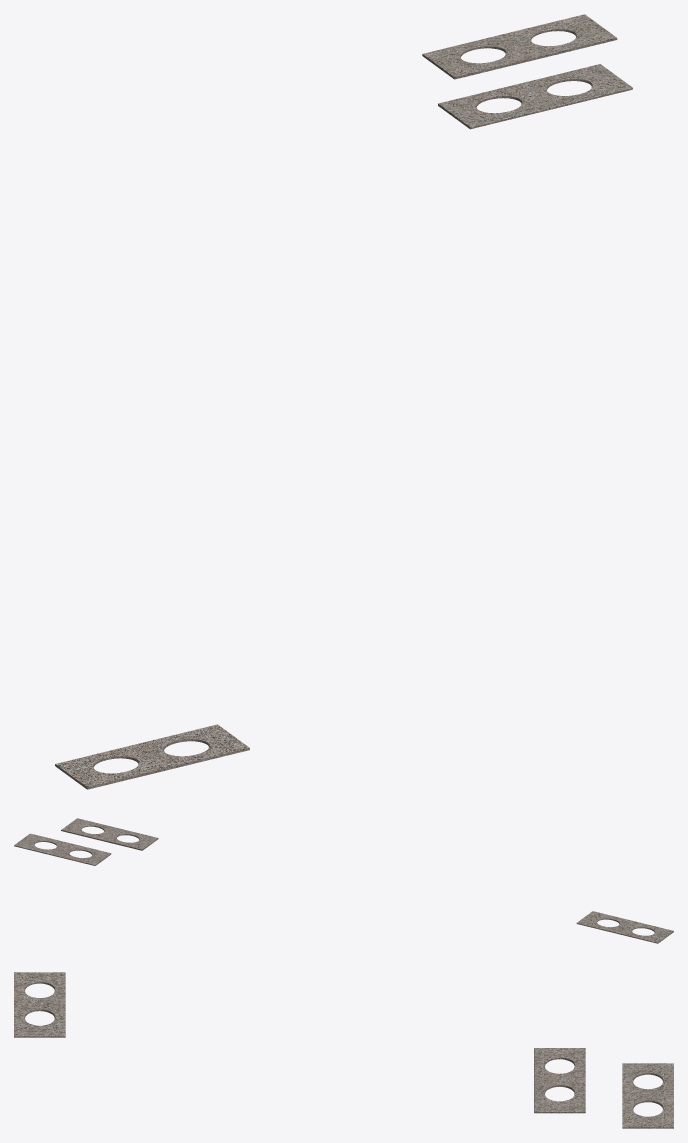
Rendered from Countertops_Granite_Caledonia.glb.
3 renders of one model, top to bottom at view 1: azimuth 30°, elevation 25°; view 2: azimuth 150°, elevation 25°; view 3: azimuth 270°, elevation 25°, orthographic. The views are drawn at different scales.
Parts seen in each view (by area): view 1: Bathroom_Counter_tops_Granite_Caledonia_2345; view 2: Bathroom_Counter_tops_Granite_Caledonia_2345; view 3: Bathroom_Counter_tops_Granite_Caledonia_2345.
Part boxes in pixels (bbox=[...]): Bathroom_Counter_tops_Granite_Caledonia_2345: bbox=[55, 14, 632, 789]; Bathroom_Counter_tops_Granite_Caledonia_2345: bbox=[14, 818, 673, 943]; Bathroom_Counter_tops_Granite_Caledonia_2345: bbox=[14, 972, 673, 1128].
Size of the model in its own units: 16.21 by 4.31 by 12.7.
Materials: 1 (1 with a texture image).
